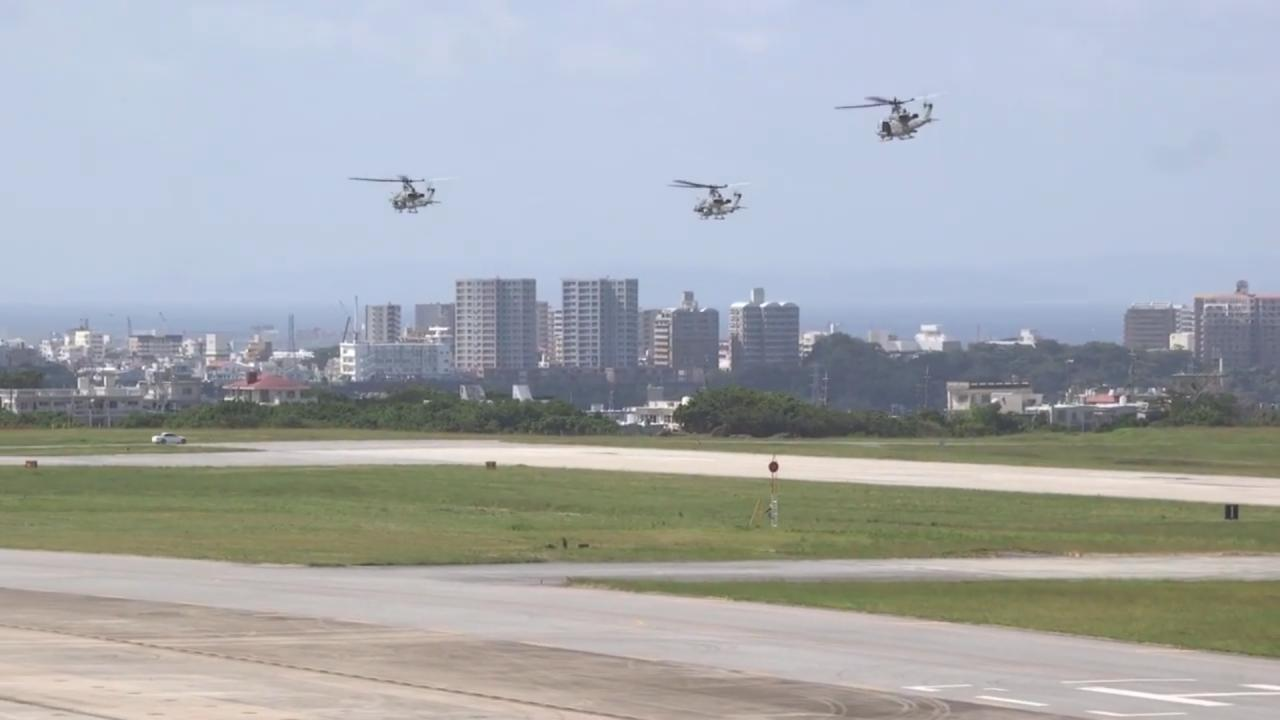Helicopter: (827, 83, 953, 145), (347, 163, 457, 224), (658, 167, 756, 230)
